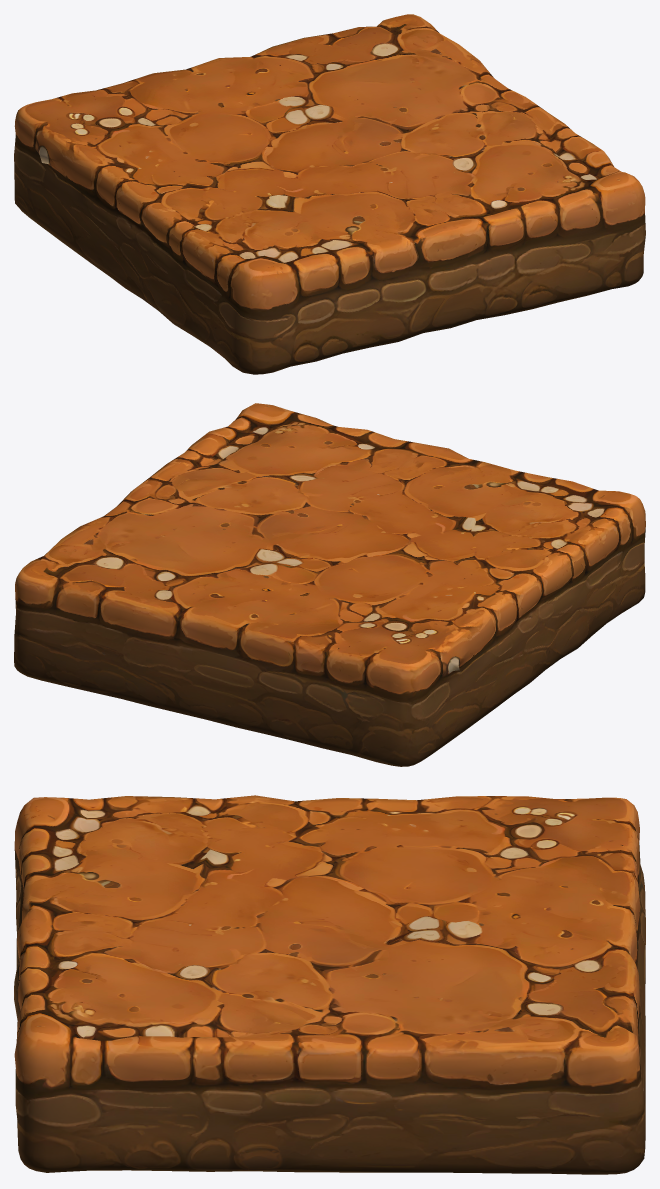
Rendered from baldosa_tierra_piedras.fbx.
3 renders of one model, top to bottom at view 1: azimuth 30°, elevation 25°; view 2: azimuth 150°, elevation 25°; view 3: azimuth 270°, elevation 25°, orthographic. The views are drawn at different scales.
Parts seen in each view (by area): view 1: tripo_node_bb812369; view 2: tripo_node_bb812369; view 3: tripo_node_bb812369.
Part boxes in pixels (x1=…): tripo_node_bb812369: x1=14, y1=14, x2=645, y2=374; tripo_node_bb812369: x1=14, y1=403, x2=645, y2=766; tripo_node_bb812369: x1=14, y1=795, x2=645, y2=1174.
Bounding box in the file's own units: 97.54 × 24.01 × 99.87.
1 material, 1 textured.
